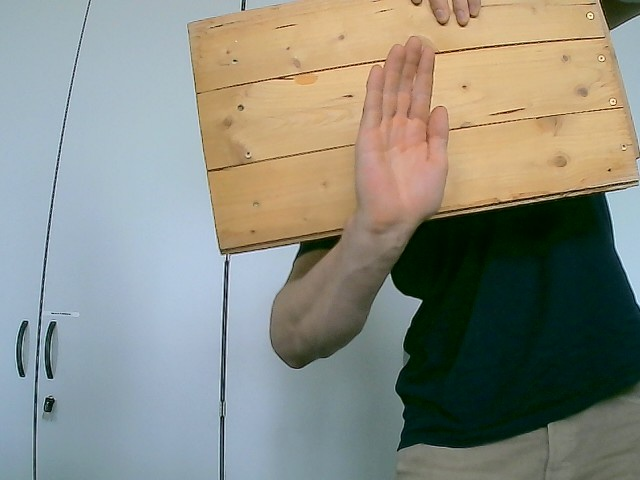stop: (352, 34, 451, 232)
